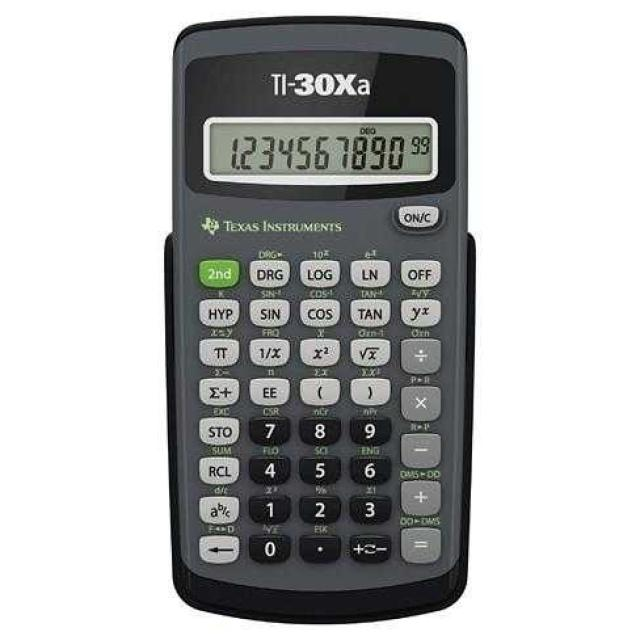Calculator: (162, 14, 474, 624)
